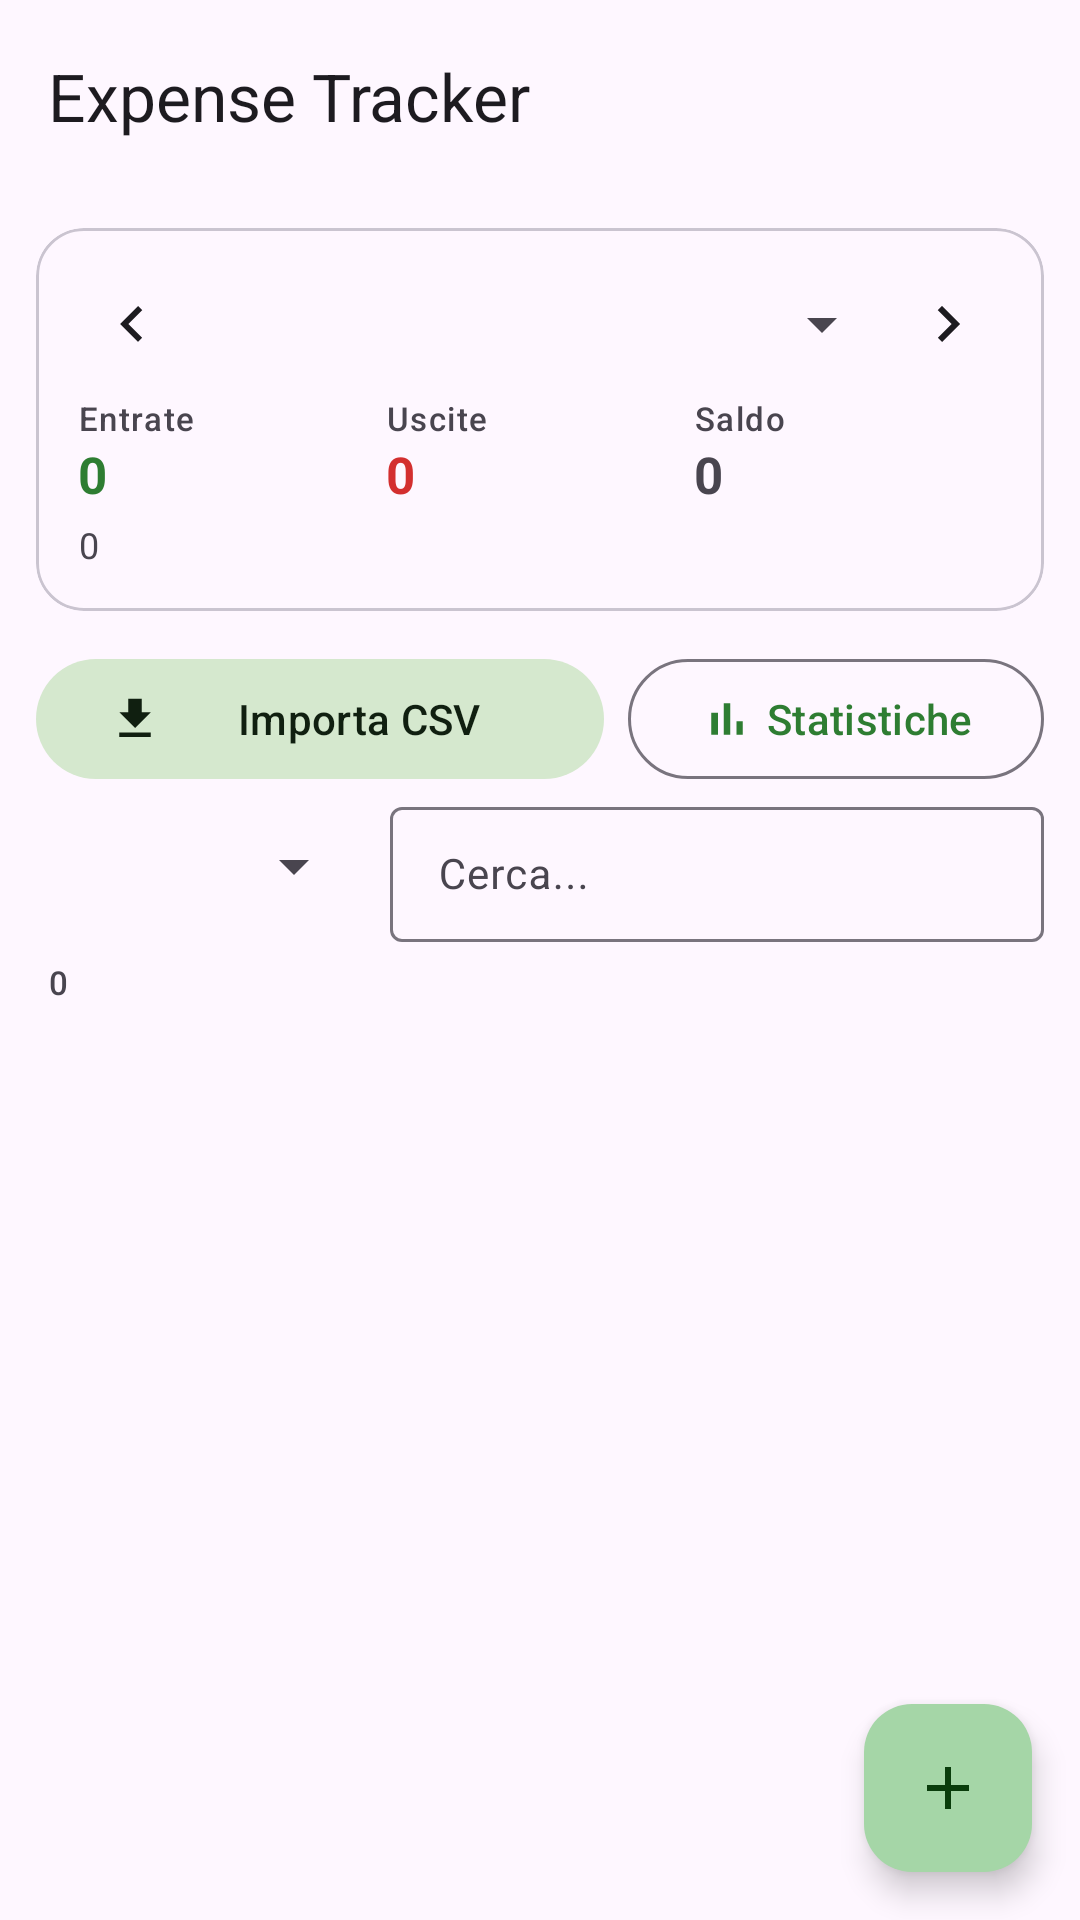

Where icons sit on this 1080*1920 app screen, as (x1, y1, x2, y2):
Mese precedente: (120, 306, 142, 342)
Mese successivo: (938, 306, 960, 342)
Nuova operazione: (864, 1704, 1032, 1872)
